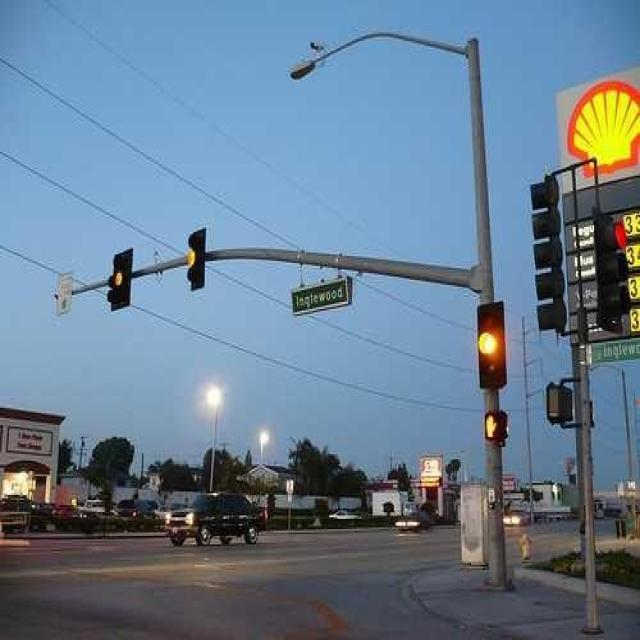Traffic Light -Yellow-: (473, 295, 507, 393), (106, 244, 136, 311), (184, 224, 210, 294)
